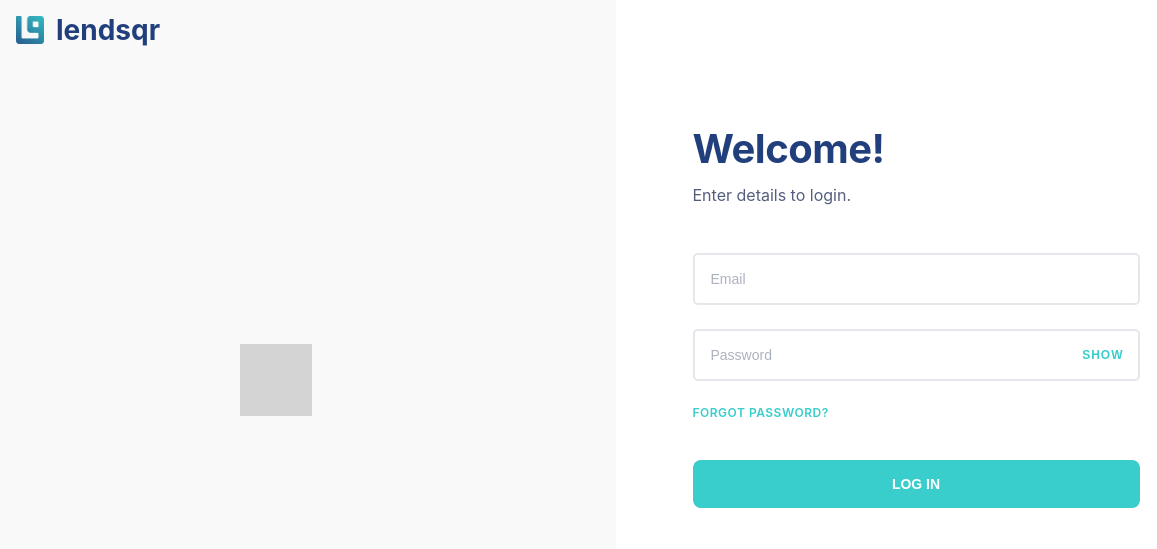
Scenario: Login Page › shows error when submitting empty form
Click the button "LOG IN".
click(916, 484)  # box [692,460,1140,508]
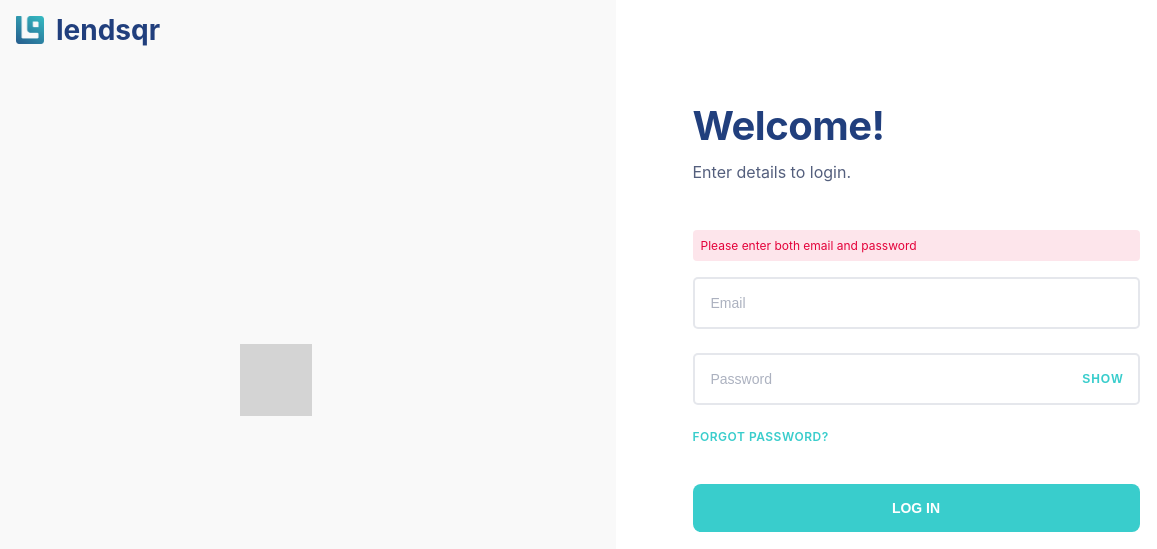
expect the text "Please enter both email and password" is shown: met, box [692,230,1140,260]
